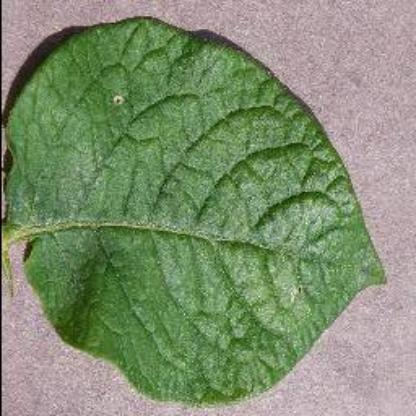Healthy-plant: (6, 16, 386, 406)
